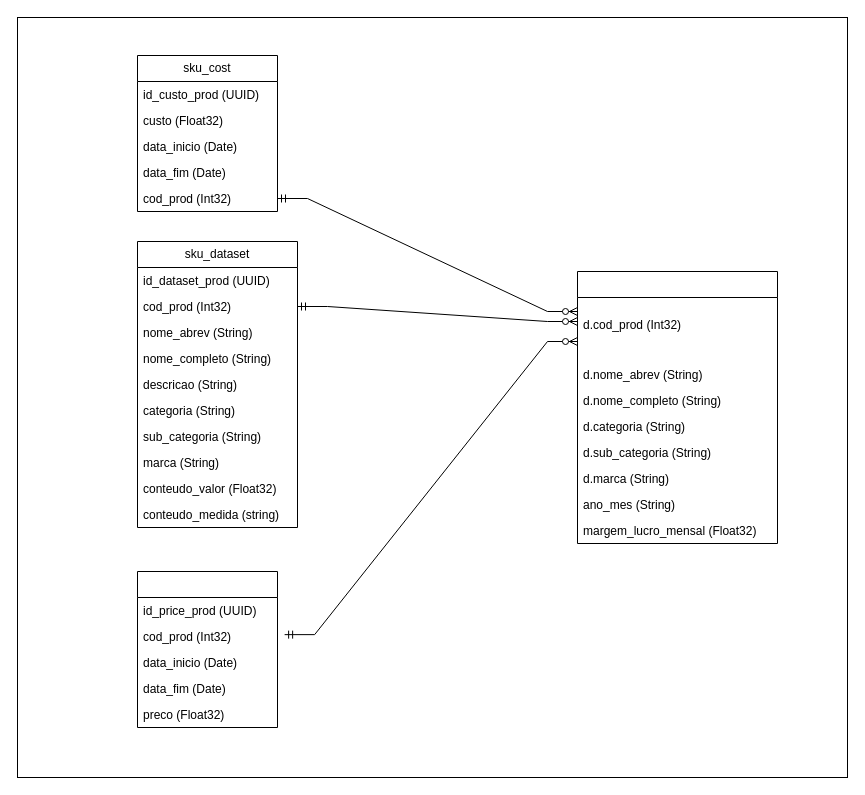
Image size: 865x795. Some labels were removed from this diagram. Each missing label, with the box of its shape:
margem_lucro_produtos_mensal: (576, 270, 778, 544)
sku_price: (136, 570, 278, 728)
